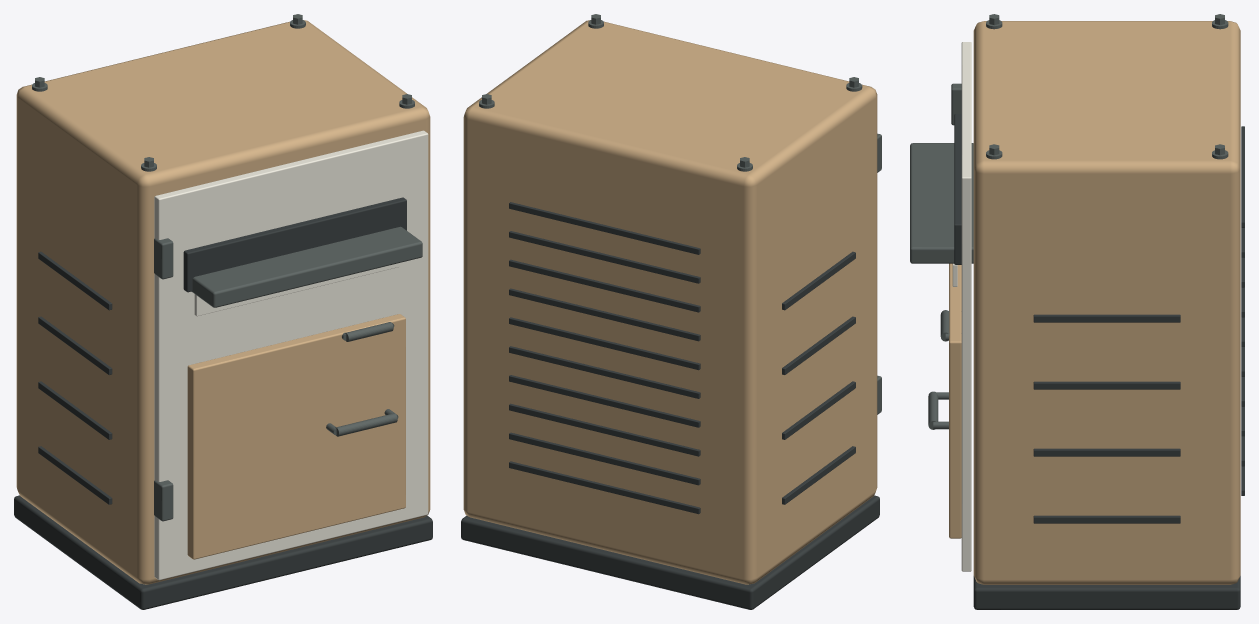
Rendered from public-library-and-reading-garden-public-library-and-r-6e15f61f__30906.glb.
3 renders of one model, left to right at view 1: azimuth 30°, elevation 25°; view 2: azimuth 150°, elevation 25°; view 3: azimuth 270°, elevation 25°, orthographic. The views are drawn at different scales.
Visible parts, largest first — view 1: public-library-and-reading-garden-book-return-slot-cabinet; view 2: public-library-and-reading-garden-book-return-slot-cabinet; view 3: public-library-and-reading-garden-book-return-slot-cabinet.
Part boxes in pixels (x1,y1,x2,y2): public-library-and-reading-garden-book-return-slot-cabinet: [14, 14, 432, 609]; public-library-and-reading-garden-book-return-slot-cabinet: [461, 14, 881, 609]; public-library-and-reading-garden-book-return-slot-cabinet: [910, 14, 1244, 609].
Size of the model in its own units: 0.872 by 1.23 by 0.8155.
